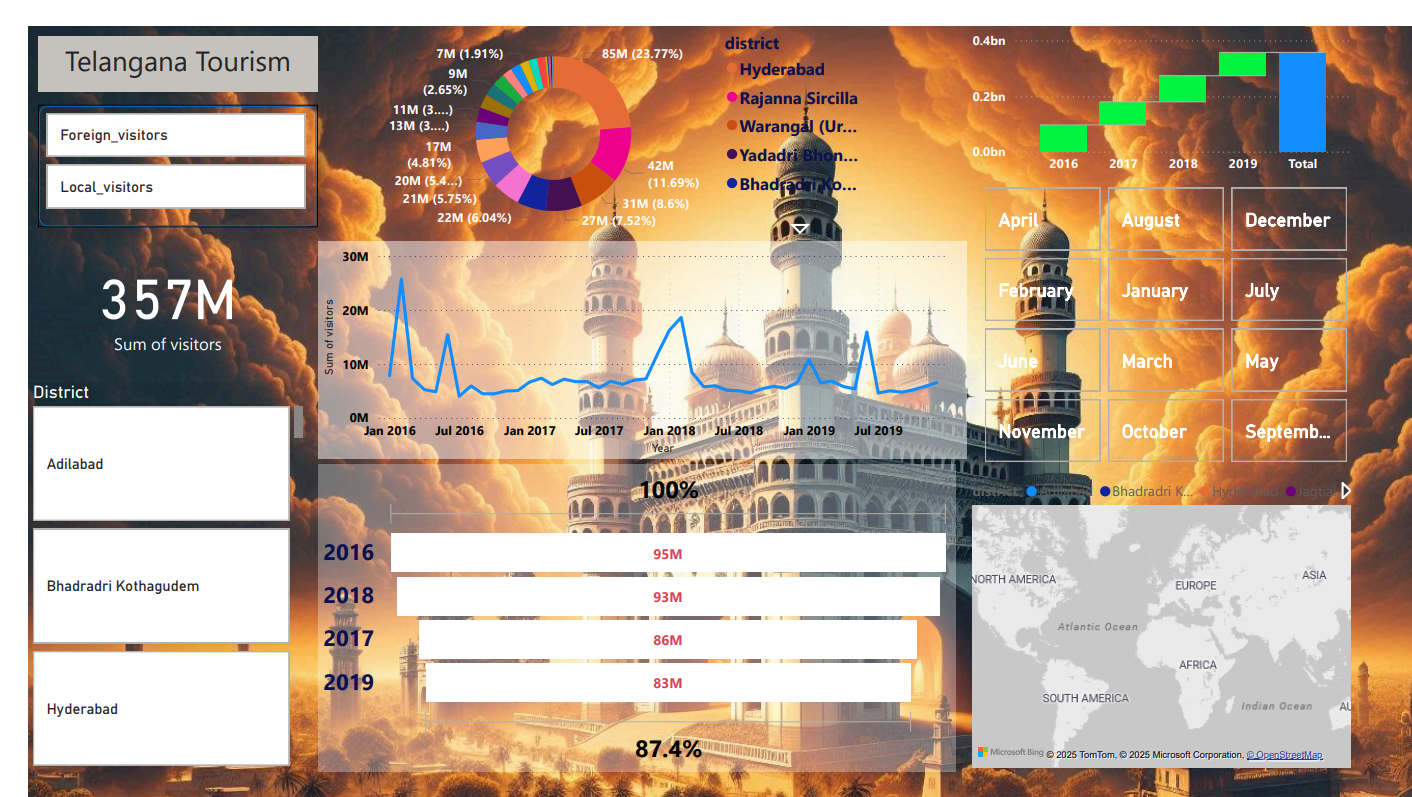

What the dashboard file says about the page in this screenshot:
{"tool":"powerbi","page":{"name":"Page 1","canvas":[1280,720],"ordinal":0},"visuals":[{"type":"textbox","box":[9.6,9.6,270.3,53.5],"z":0},{"type":"map","fields":{"Category":["Sheet1.district"],"Size":["Sum(Sheet1.visitors)"]},"box":[905.7,429.5,374.6,290.9],"z":1000},{"type":"card","fields":{"Values":["Sum(Sheet1.visitors)"]},"box":[0,193.5,270.3,150.9],"z":2000},{"type":"shape","box":[9.6,75.5,270.3,119.4],"z":3000},{"type":"advancedSlicerVisual","fields":{"Values":["Sheet1.month"]},"box":[905.7,152.3,362.3,277.2],"z":4000},{"type":"funnel","fields":{"Y":["Sum(Sheet1.visitors)"],"Category":["Sheet1.year"]},"box":[279.9,424,614.8,296.4],"z":5000},{"type":"advancedSlicerVisual","fields":{"Values":["Sheet1.Type"]},"box":[13.7,79.6,259.3,102.9],"z":6000},{"type":"advancedSlicerVisual","title":"District","fields":{"Values":["Sheet1.district"]},"box":[0,344.4,270.3,376],"z":7000},{"type":"lineChart","fields":{"Category":["Sheet1.date.Variation.Date Hierarchy.Year","Sheet1.date.Variation.Date Hierarchy.Quarter","Sheet1.date.Variation.Date Hierarchy.Month","Sheet1.date.Variation.Date Hierarchy.Day"],"Y":["Sum(Sheet1.visitors)"]},"box":[279.9,208.6,625.7,209.9],"z":8000},{"type":"waterfallChart","fields":{"Category":["Sheet1.date.Variation.Date Hierarchy.Year","Sheet1.date.Variation.Date Hierarchy.Month","Sheet1.Type","Sheet1.district"],"Y":["Sum(Sheet1.visitors)"]},"box":[905.7,0,374.6,152.3],"z":9000},{"type":"donutChart","fields":{"Category":["Sheet1.district"],"Y":["Sum(Sheet1.visitors)"]},"box":[349.9,0,483,208.6],"z":10000}]}

Visuals, with their boxes in screenshot pixels (x1, y1, x2, y2), scaled from the page's 1280x720 canvas onto the 1412x797 screenshot:
textbox: crop(11, 11, 309, 70)
map - Sheet1.district x Sum(Sheet1.visitors): crop(999, 475, 1411, 796)
card - Sum(Sheet1.visitors): crop(0, 214, 298, 381)
shape: crop(11, 84, 309, 216)
advancedSlicerVisual - Sheet1.month: crop(999, 169, 1399, 475)
funnel - Sum(Sheet1.visitors) x Sheet1.year: crop(309, 469, 987, 796)
advancedSlicerVisual - Sheet1.Type: crop(15, 88, 301, 202)
"District" advancedSlicerVisual: crop(0, 381, 298, 796)
lineChart - Sheet1.date.Variation.Date Hierarchy.Year x Sheet1.date.Variation.Date Hierarchy.Quarter: crop(309, 231, 999, 463)
waterfallChart - Sheet1.date.Variation.Date Hierarchy.Year x Sheet1.date.Variation.Date Hierarchy.Month: crop(999, 0, 1411, 169)
donutChart - Sheet1.district x Sum(Sheet1.visitors): crop(386, 0, 919, 231)
